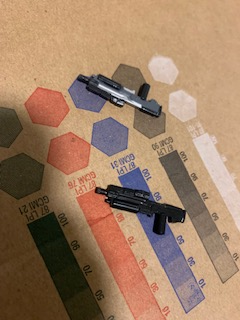rifle: (94, 183, 189, 236), (74, 69, 168, 122)
